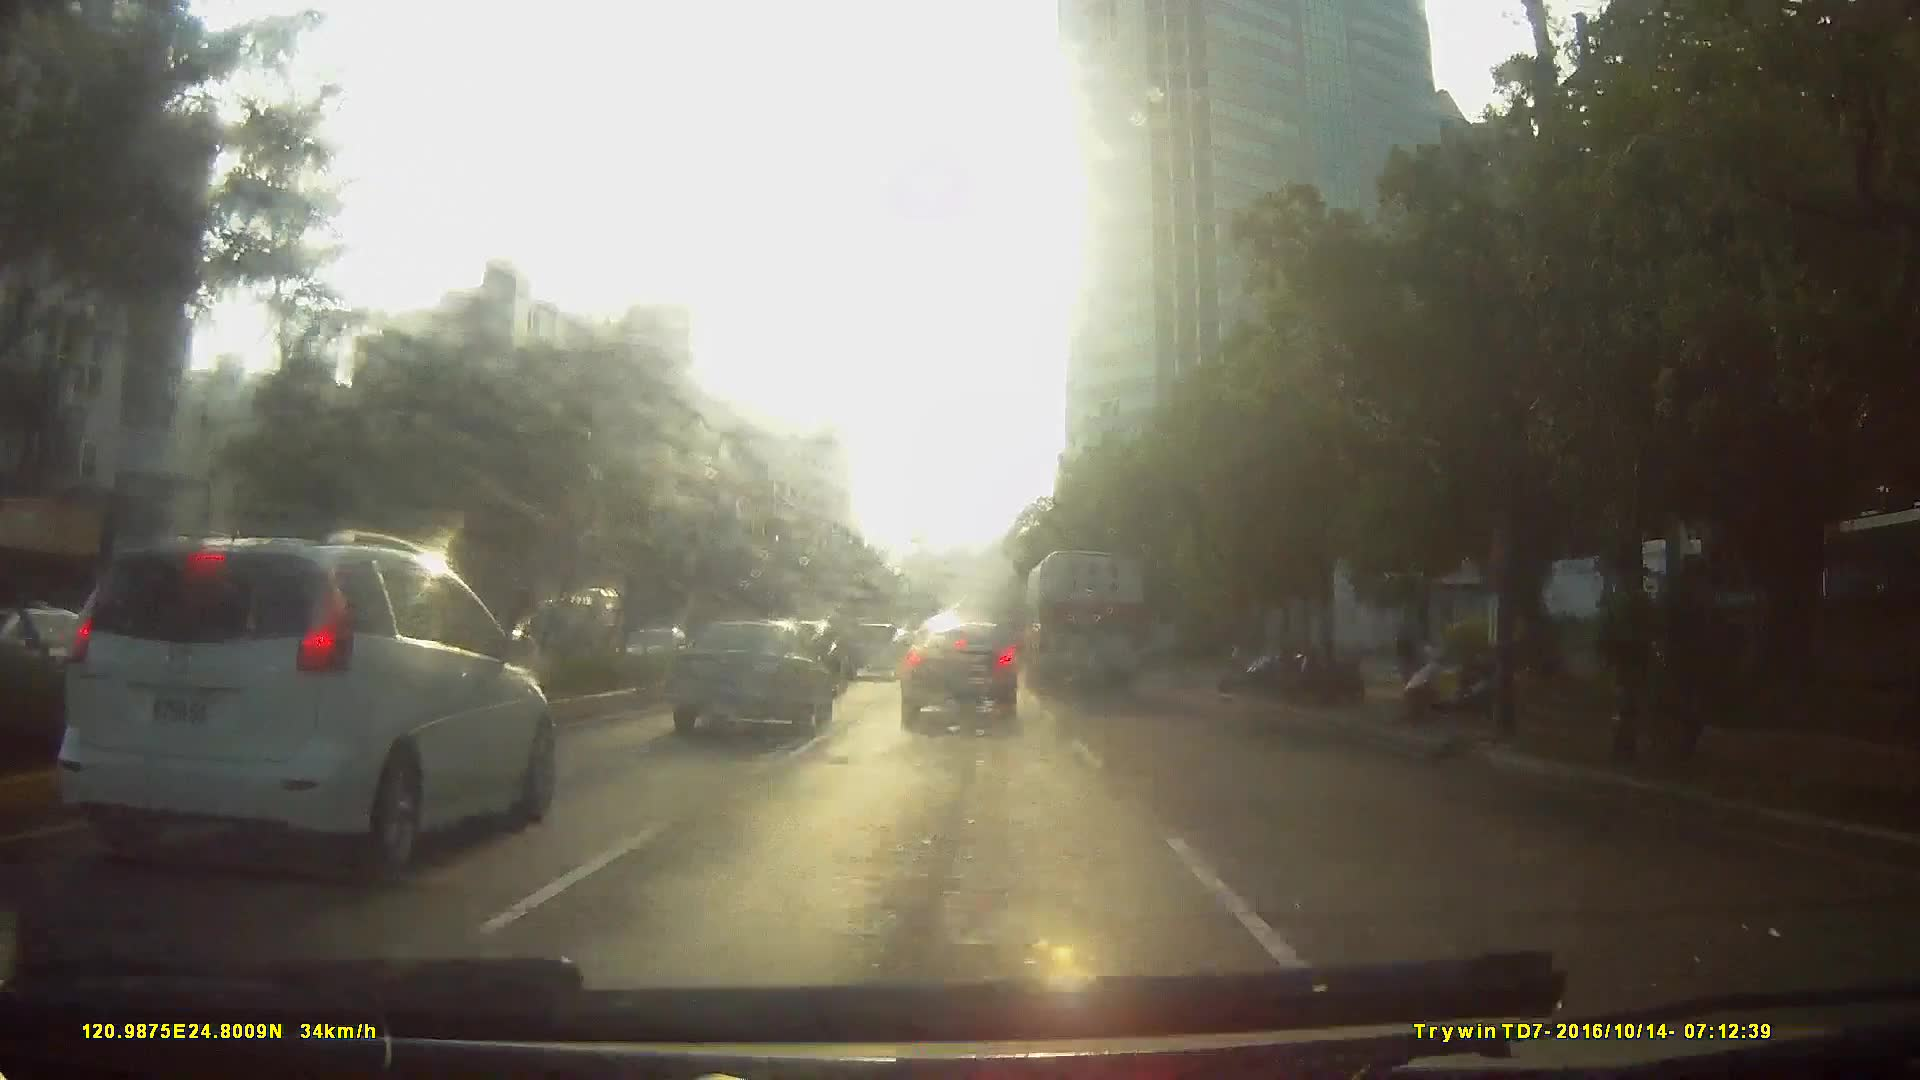pedestrian: (1391, 609, 1419, 699)
vehicle: (64, 513, 558, 883), (250, 556, 684, 868), (660, 613, 830, 735), (1021, 539, 1145, 692), (896, 617, 1021, 717), (515, 579, 614, 665), (843, 619, 902, 679)
